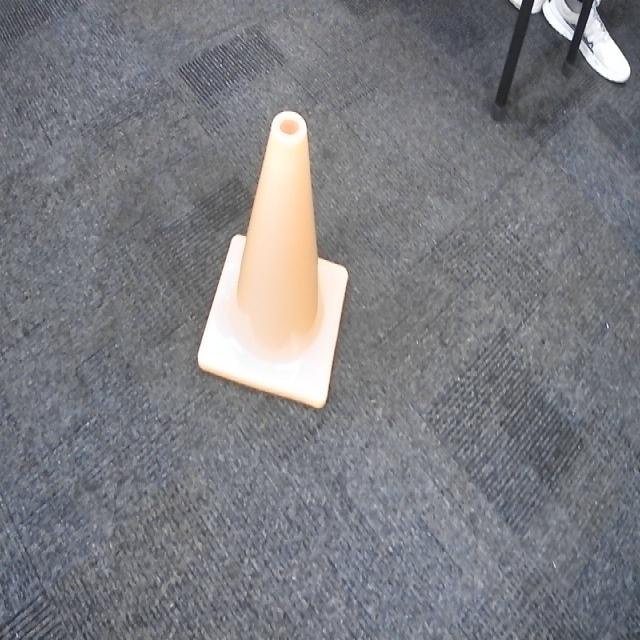cone: (193, 105, 352, 419)
